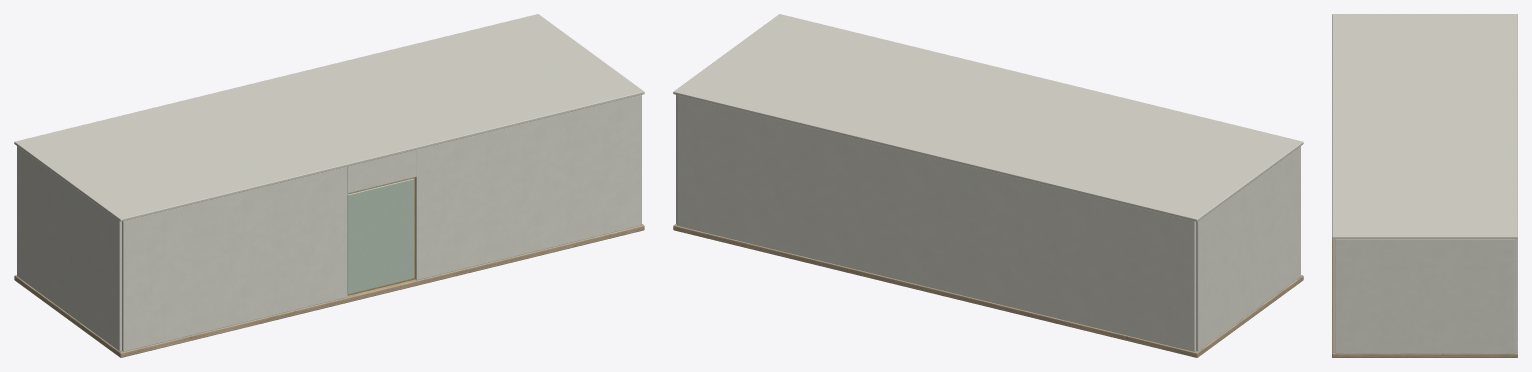
The model's file is room.glb.
3 renders of one model, left to right at view 1: azimuth 30°, elevation 25°; view 2: azimuth 150°, elevation 25°; view 3: azimuth 270°, elevation 25°, orthographic. The views are drawn at different scales.
Parts seen in each view (by area): view 1: Analysis.FrontShell.Ivory_plaster, Analysis.Ceiling.Panel, Analysis.LeftWall, Analysis.DoorLeaf, Analysis.Floor; view 2: Analysis.BackWall, Analysis.Ceiling.Panel, Analysis.LeftWall, Analysis.Floor; view 3: Analysis.Ceiling.Panel, Analysis.RightWall, Analysis.Floor, Analysis.BackWall, Analysis.FrontShell.Ivory_plaster.
Boxes of the visible parts, bbox=[...] form: Analysis.FrontShell.Ivory_plaster: bbox=[122, 95, 640, 351]; Analysis.Ceiling.Panel: bbox=[14, 14, 644, 221]; Analysis.LeftWall: bbox=[17, 146, 121, 351]; Analysis.DoorLeaf: bbox=[347, 178, 413, 294]; Analysis.Floor: bbox=[14, 224, 644, 357]; Analysis.BackWall: bbox=[677, 95, 1195, 351]; Analysis.Ceiling.Panel: bbox=[673, 14, 1303, 221]; Analysis.LeftWall: bbox=[1196, 146, 1300, 351]; Analysis.Floor: bbox=[673, 224, 1303, 357]; Analysis.Ceiling.Panel: bbox=[1332, 14, 1517, 238]; Analysis.RightWall: bbox=[1335, 239, 1514, 353]; Analysis.Floor: bbox=[1332, 239, 1517, 357]; Analysis.BackWall: bbox=[1514, 239, 1516, 352]; Analysis.FrontShell.Ivory_plaster: bbox=[1333, 239, 1335, 352].
Bounding box in the file's own units: 12.96 × 3.28 × 4.56.
Materials: 37 (22 with a texture image).
